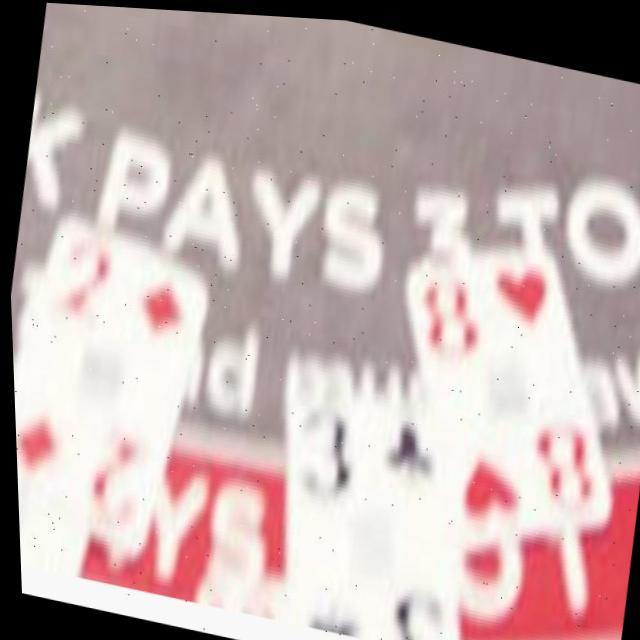Card-2: (11, 213, 206, 550)
Card-3: (289, 397, 455, 640)
Card-8: (405, 234, 609, 542)
